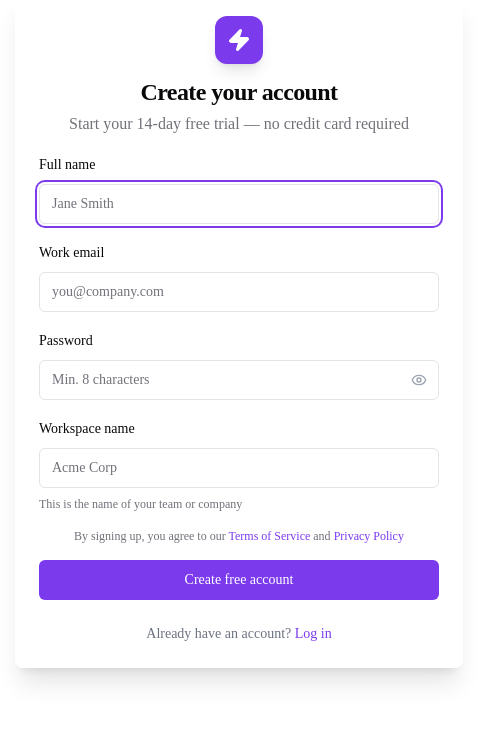
Test: SignupPage › shows validation errors for empty required fields on submit
The width and height of the screenshot is (479, 754).
Click the button "Create free account" at (239, 580), box [39,560,439,600]
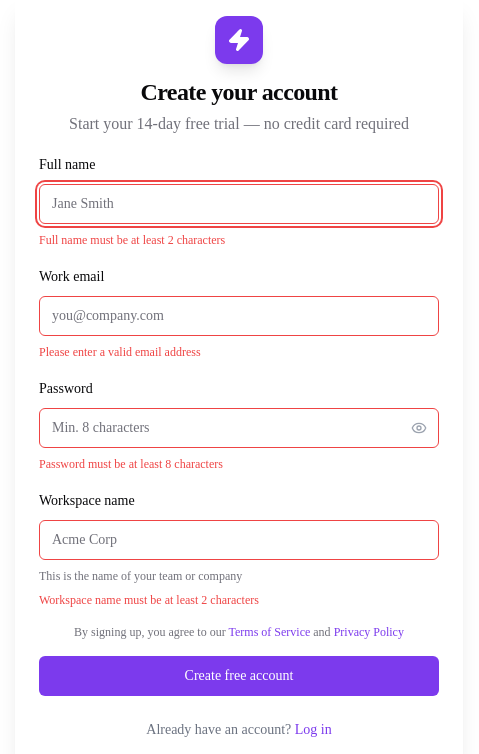
Check: the text "Full name must be at least 2 characters" is shown, box [39,233,225,247]
Check: the text "Please enter a valid email address" is shown, box [39,345,201,359]
